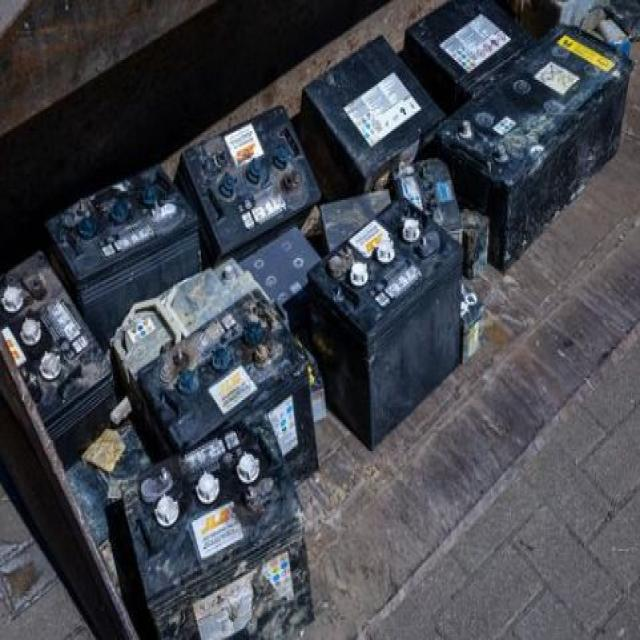electronic: (172, 95, 335, 278)
